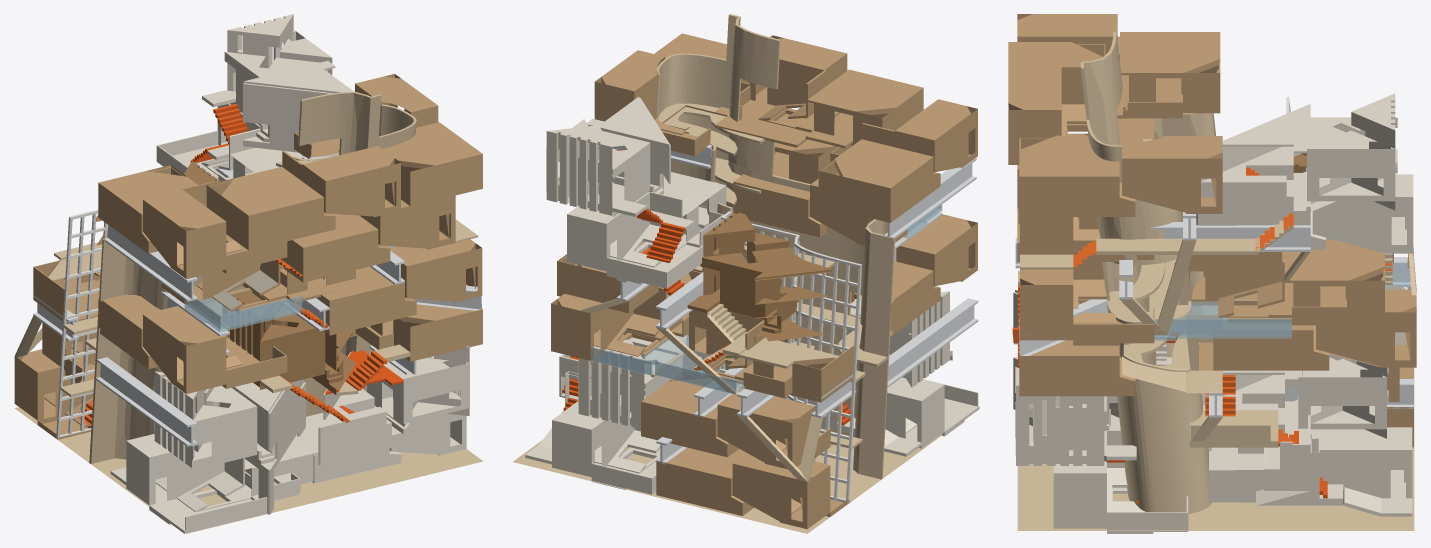
The model's file is y2s1-open-celmer.glb.
The picture shows the model from 3 angles, left to right: view 1: azimuth 30°, elevation 25°; view 2: azimuth 150°, elevation 25°; view 3: azimuth 270°, elevation 25°; orthographic projection. The views are drawn at different scales.
Visible parts, largest first — view 1: year 2 sem 1 model; view 2: year 2 sem 1 model; view 3: year 2 sem 1 model.
Boxes of the visible parts, left/top/right/bottom form: year 2 sem 1 model: left=14, top=14, right=483, bottom=533; year 2 sem 1 model: left=513, top=14, right=979, bottom=533; year 2 sem 1 model: left=1008, top=14, right=1416, bottom=533.
Size of the model in its own units: 8.52 by 10 by 8.72.
